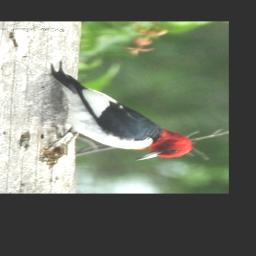Woodpecker: (51, 63, 193, 162)
